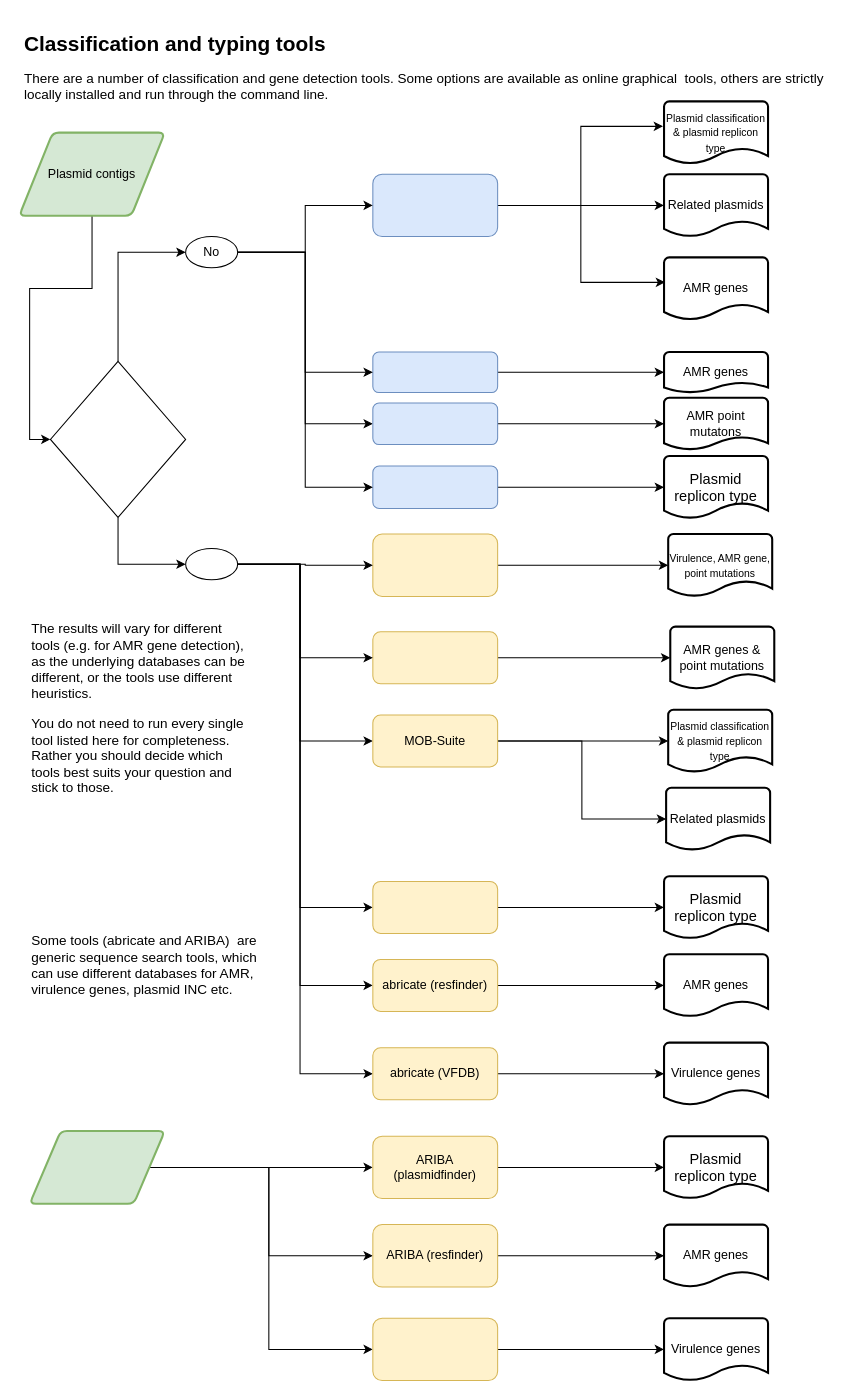
Image size: 848x1399. Some labels were removed from this diagram. The box of each missing label's shape, as (x1, y1, x2, y2) in pixels:
abricate (plasmidfinder): (372, 880, 498, 933)
AMRFinderPlus: (372, 533, 498, 596)
ARIBA (VFDB): (372, 1317, 498, 1381)
COPLA: (372, 173, 498, 237)
plasmidfinder: (372, 465, 498, 509)
pointfinder: (372, 402, 498, 445)
resfinder: (372, 351, 498, 393)
Sequenced reads (short): (28, 1129, 165, 1204)
STARAMR: (372, 631, 498, 684)
Will you install and run tools locally via command line: (49, 360, 186, 517)
Yes: (185, 548, 238, 580)
